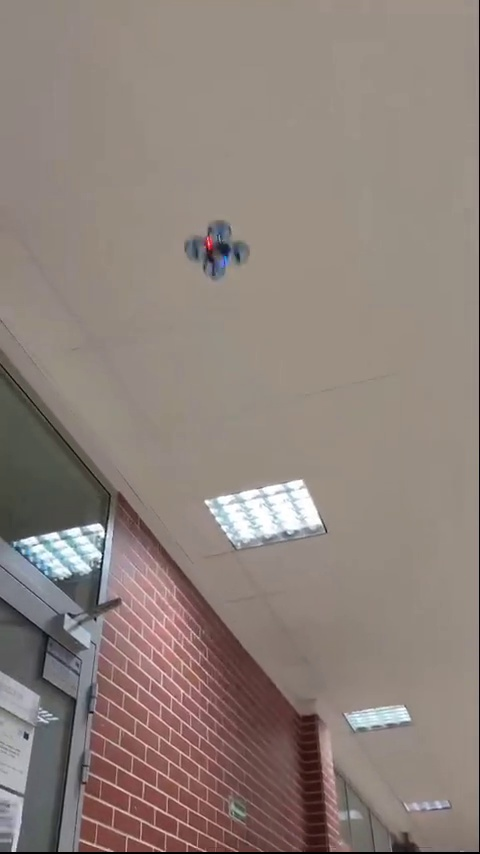drone: (182, 217, 249, 273)
